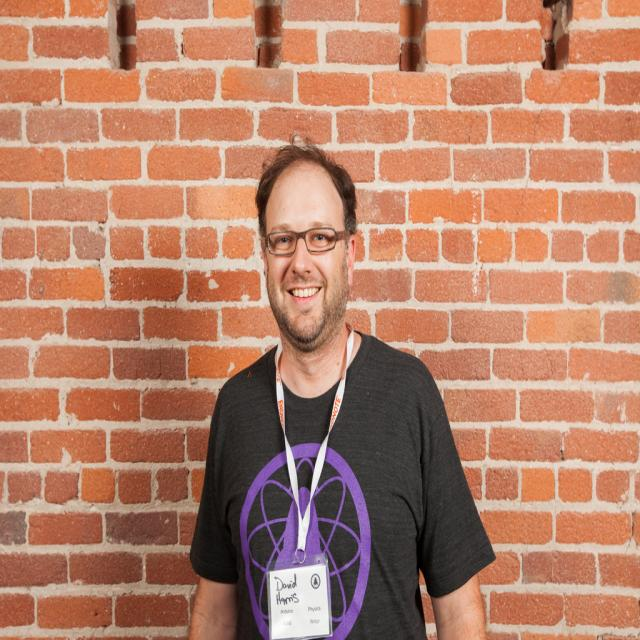Glasses: (262, 226, 348, 257)
